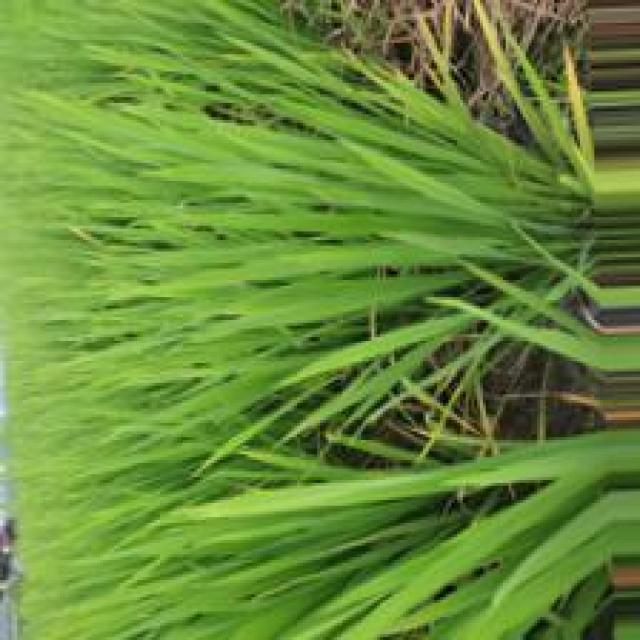HealthyLeaf: (446, 489, 554, 572), (304, 215, 468, 239), (259, 280, 367, 309)
